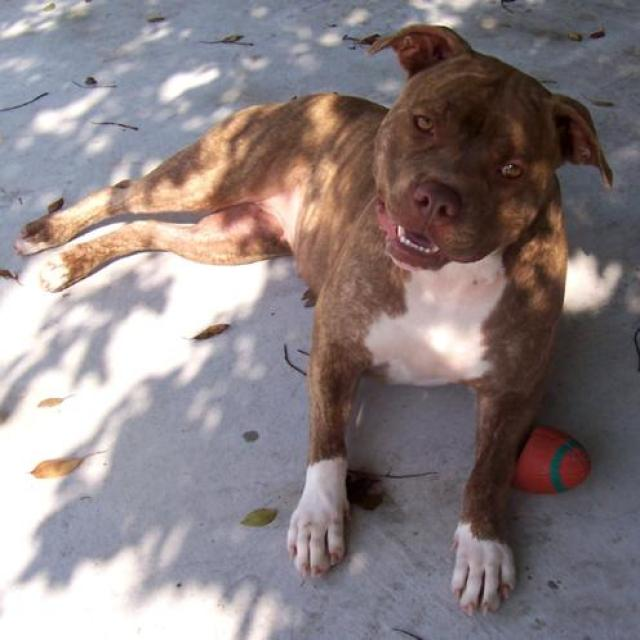Dogs: (14, 20, 613, 617)
